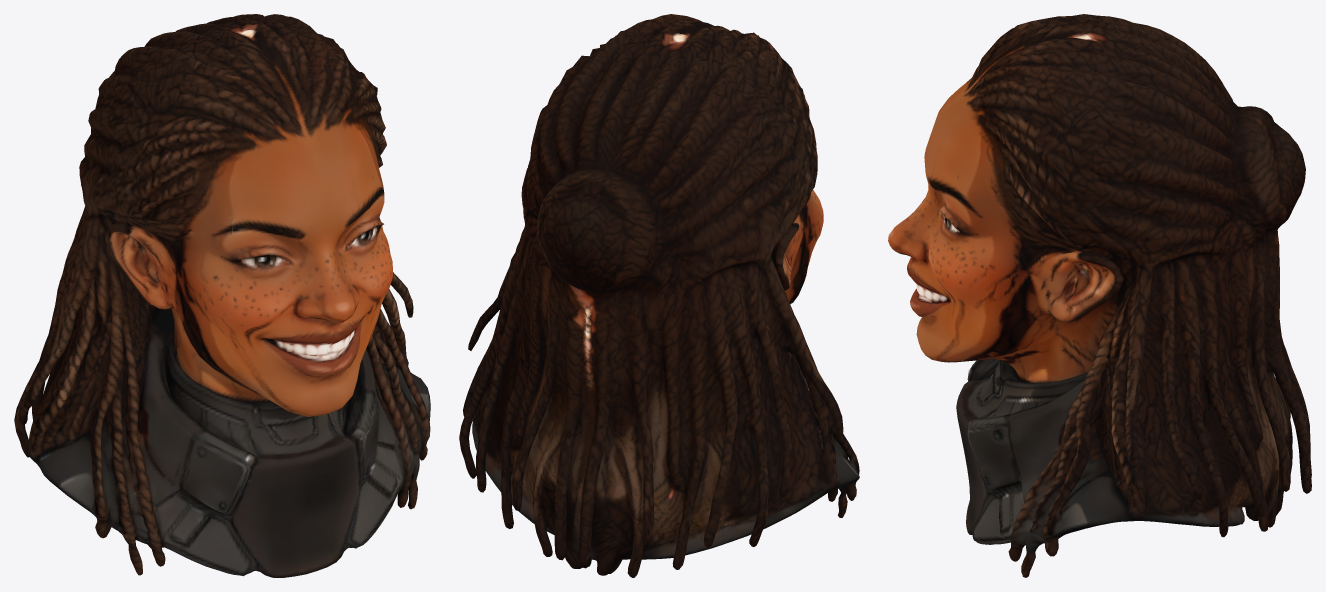
The model's file is morgana_face.fbx.
3 views of the same model, side by side, from view 1: azimuth 30°, elevation 25°; view 2: azimuth 150°, elevation 25°; view 3: azimuth 270°, elevation 25° (orthographic). The views are drawn at different scales.
Visible parts, largest first — view 1: model; view 2: model; view 3: model.
Part boxes in pixels (<box>): model: <box>14,14,430,577</box>; model: <box>459,14,859,577</box>; model: <box>888,14,1311,577</box>.
Bounding box in the file's own units: 153 × 189 × 148.
